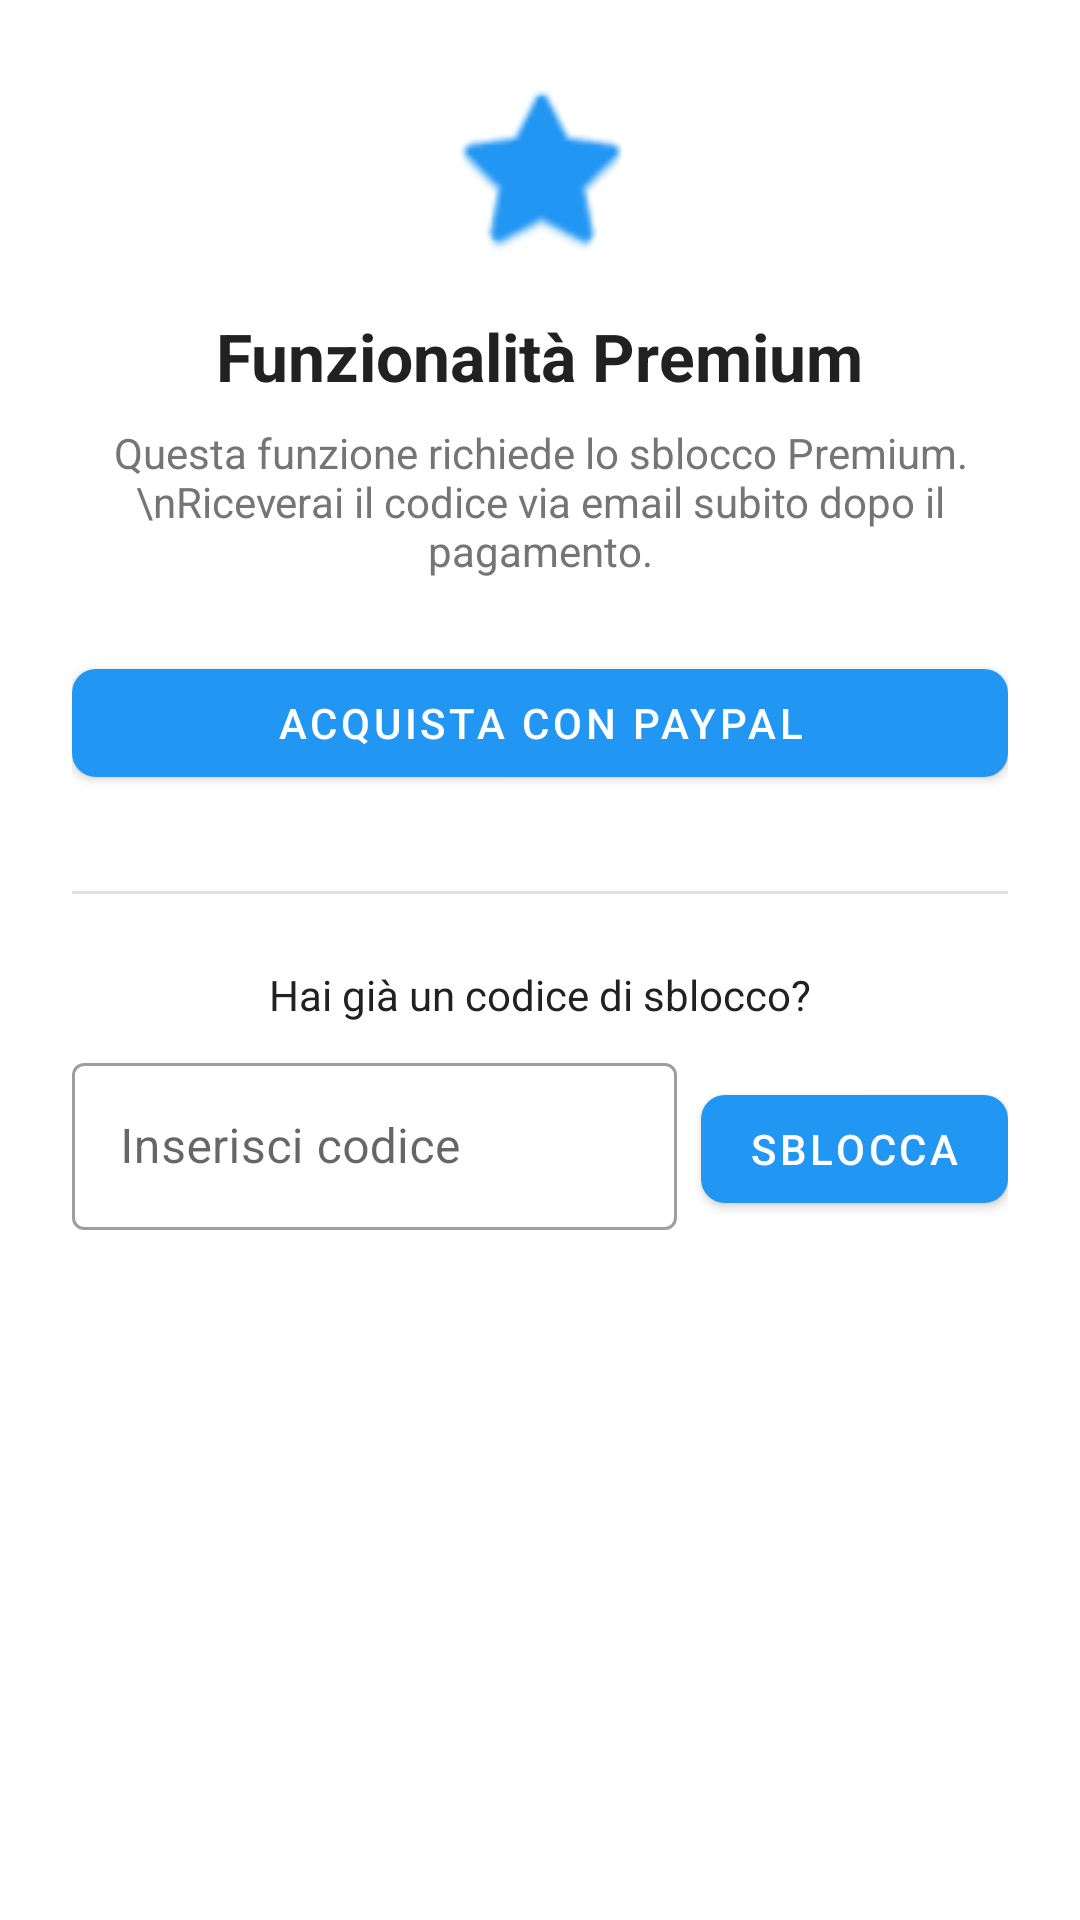

Screen size 1080x1920. Icon name, then its center in pixels as (x,y):
star on: (541,169)
